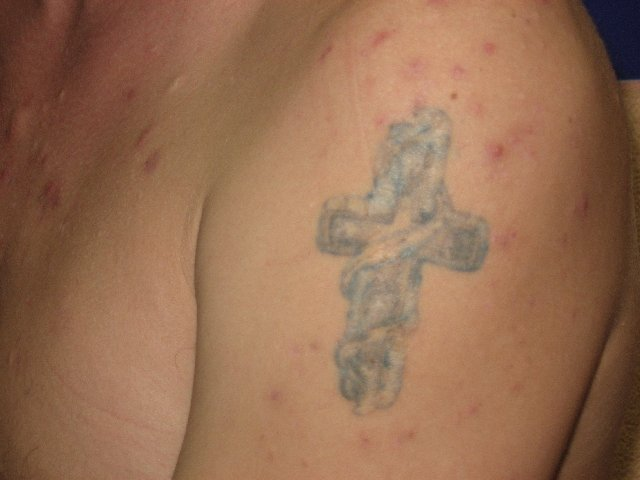tatu9_krest: (320, 100, 482, 433)
